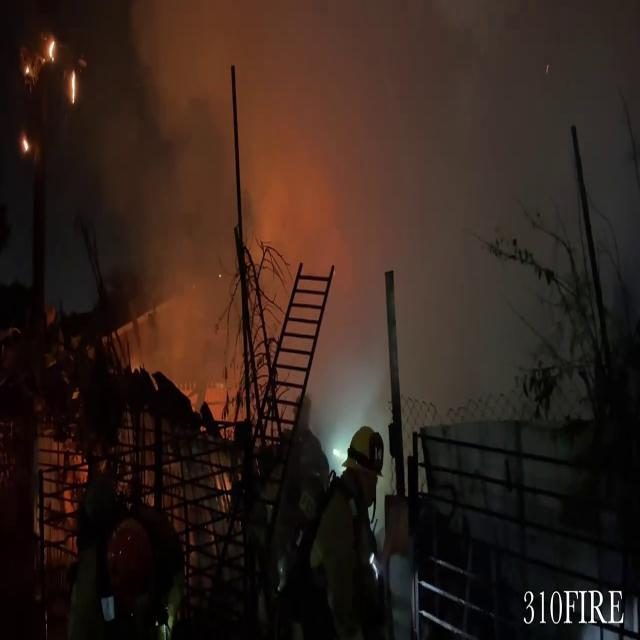Smoke: (70, 0, 488, 414)
